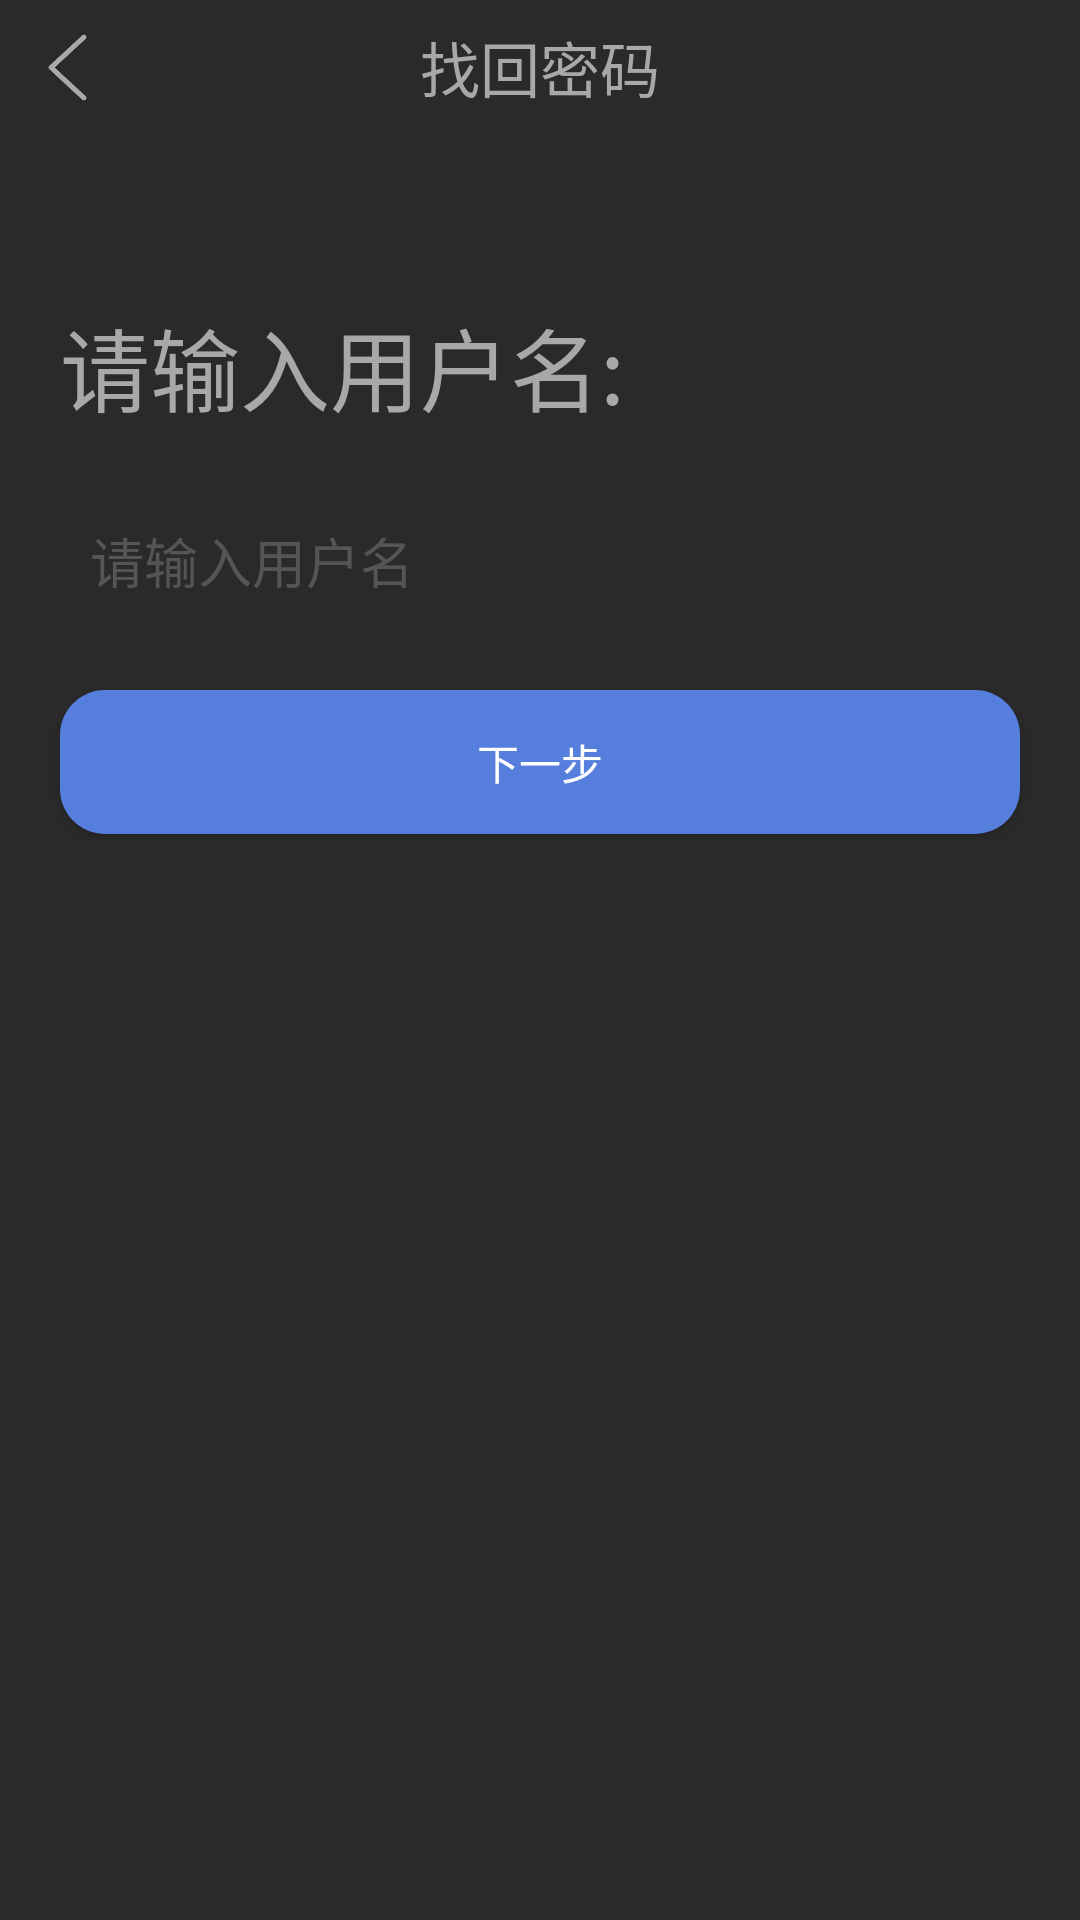

Locate icon controls on the screen. Image size 1080x1920, boxes as (x1, y1, x2, y2).
ba home return: (48, 34, 87, 101)
